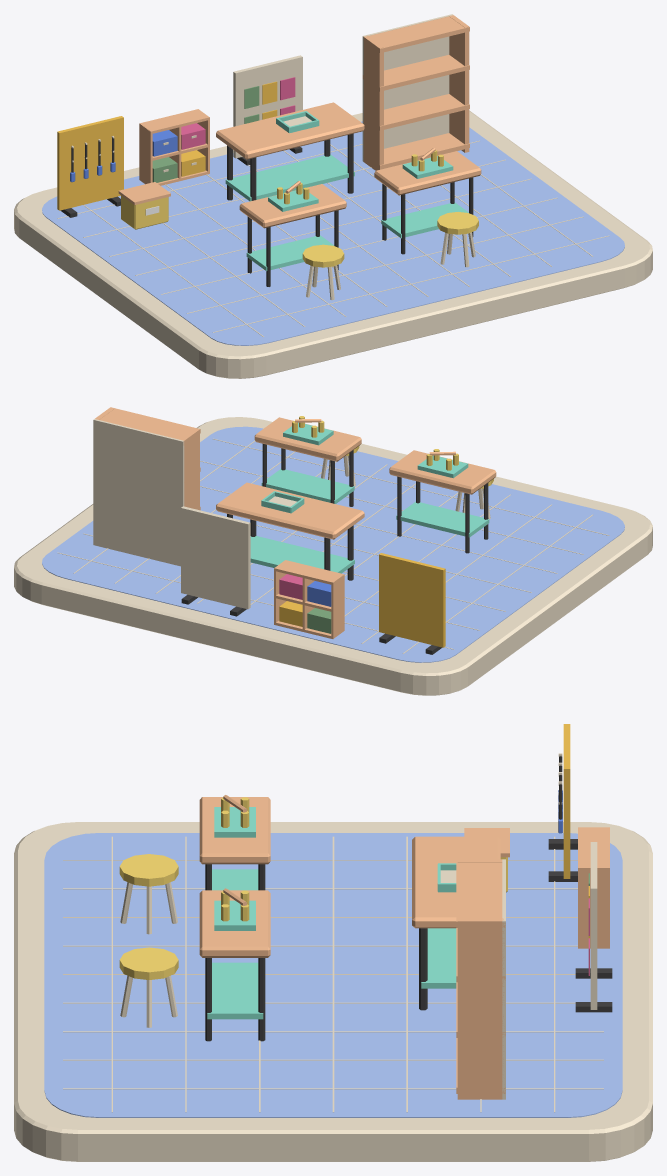
The model's file is room.fbx.
3 views of the same model, one above another, from view 1: azimuth 30°, elevation 25°; view 2: azimuth 150°, elevation 25°; view 3: azimuth 270°, elevation 25° (orthographic). The views are drawn at different scales.
Parts seen in each view (by area): view 1: COM-02 Floor Surface, COM-01 Rounded Base Direct, Panel, Back, Worktop.002, Panel.001, Lower shelf.002, Side, Worktop.001, Worktop, Side.001, Shelf.003 (+18 smaller); view 2: COM-02 Floor Surface, COM-01 Rounded Base Direct, Back, Panel.001, Panel, Worktop.002, Worktop, Worktop.001, Lower shelf.002, Lower shelf, Lower shelf.001, Shelf.003 (+10 smaller); view 3: COM-02 Floor Surface, COM-01 Rounded Base Direct, Side.001, Worktop.002, Worktop, Worktop.001, Shelf.003, Lower shelf.001, Cubbies divider.002, Lower shelf.002, Seat, Seat.001 (+17 smaller).
Boxes of the visible parts, <box> form: COM-02 Floor Surface: <box>42,121,624,345</box>; COM-01 Rounded Base Direct: <box>14,110,652,378</box>; Panel: <box>57,116,123,210</box>; Back: <box>362,14,452,161</box>; Worktop.002: <box>216,102,364,159</box>; Panel.001: <box>233,55,302,158</box>; Lower shelf.002: <box>225,154,354,201</box>; Side: <box>364,35,383,170</box>; Worktop.001: <box>374,151,481,195</box>; Worktop: <box>239,184,346,228</box>; Side.001: <box>449,15,469,152</box>; Shelf.003: <box>364,16,469,53</box>; COM-02 Floor Surface: <box>42,426,624,662</box>; COM-01 Rounded Base Direct: <box>14,417,652,695</box>; Back: <box>93,419,184,566</box>; Panel.001: <box>181,506,250,609</box>; Panel: <box>379,553,445,647</box>; Worktop.002: <box>216,482,364,539</box>; Worktop: <box>389,450,496,494</box>; Worktop.001: <box>254,417,361,461</box>; Lower shelf.002: <box>250,536,354,573</box>; Lower shelf: <box>396,501,489,537</box>; Lower shelf.001: <box>261,469,354,503</box>; Shelf.003: <box>100,407,200,445</box>; COM-02 Floor Surface: <box>44,833,622,1117</box>; COM-01 Rounded Base Direct: <box>14,822,652,1161</box>; Side.001: <box>457,918,504,1099</box>; Worktop.002: <box>412,836,500,928</box>; Worktop: <box>199,797,270,864</box>; Worktop.001: <box>199,890,270,957</box>; Shelf.003: <box>456,859,505,927</box>; Lower shelf.001: <box>207,962,263,1019</box>; Cubbies divider.002: <box>578,868,609,948</box>; Lower shelf.002: <box>421,928,456,988</box>; Seat: <box>119,854,178,886</box>; Seat.001: <box>119,947,178,979</box>.
Size of the model in its own units: 600 by 190 by 520.
